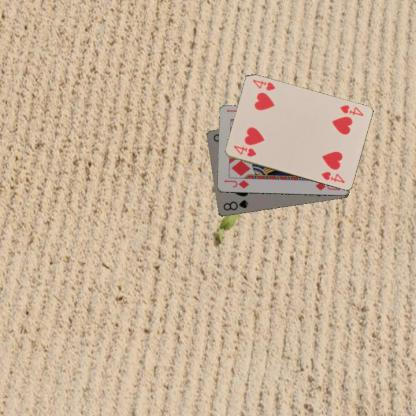4h: (337, 102, 364, 118), (231, 143, 257, 158)
8s: (221, 198, 249, 212)
Jd: (221, 177, 250, 190)
